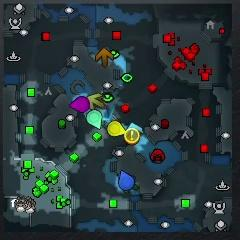Other: (125, 128, 140, 143)
p1: (119, 170, 134, 190)
p2: (87, 110, 102, 129)
p3: (69, 96, 90, 112)
p4: (108, 121, 126, 137)
x2: (87, 93, 105, 110)
x3: (127, 123, 143, 132)
x5: (96, 48, 113, 67)
